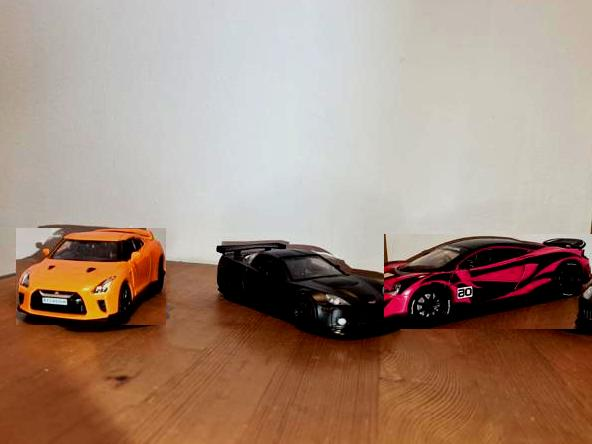toy-car: (384, 234, 592, 329), (216, 242, 402, 338), (17, 229, 167, 326)
